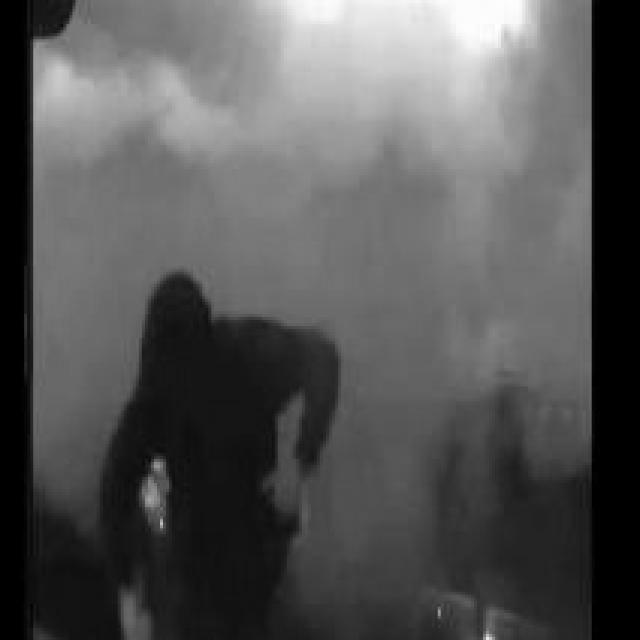fire: (33, 0, 588, 223)
